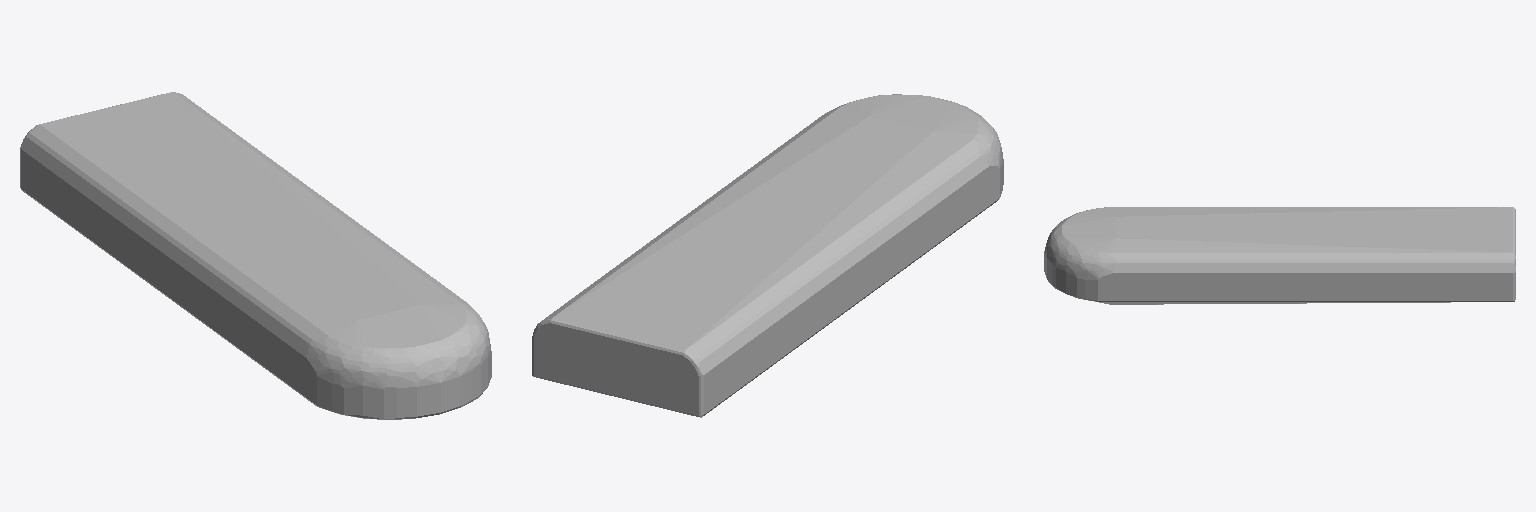
robot.urdf — root:
<?xml version="1.0"?>
<robot name="root">
  <link name="base_link">
    <visual>
      <origin xyz="0 0 0" rpy="0 0 0" />
      <geometry>
        <mesh filename="../meshes/unidex_core_remote-226078581cd4efd755c5278938766a05_015.obj" scale="1.0000E+00 1.0000E+00 1.0000E+00" />
      </geometry>
      <material name="">
        <color rgba="7.50E-01 7.50E-01 7.50E-01 1" />
      </material>
    </visual>
    <collision>
      <origin xyz="0 0 0" rpy="0 0 0" />
      <geometry>
        <mesh filename="../meshes/unidex_core_remote-226078581cd4efd755c5278938766a05_015.obj" scale="1.0000E+00 1.0000E+00 1.0000E+00" />
      </geometry>
    </collision>
  </link>
</robot>

--- Facts derived from the render (not from the file) ---
3 views of the same robot in one strip: view 1: azimuth 30°, elevation 25°; view 2: azimuth 150°, elevation 25°; view 3: azimuth 270°, elevation 25° (orthographic).
Robot: root — 1 links, 0 joints (none); root link base_link; default pose: every joint at zero.
Links seen in each view (by area): view 1: base_link; view 2: base_link; view 3: base_link.
Link boxes in pixels (x1,y1,x2,y2): base_link: (20, 92, 491, 419); base_link: (532, 94, 1003, 417); base_link: (1044, 207, 1515, 304).
Bounding box of the posed robot: 0.0825 × 0.2813 × 0.0367 m (x, y, z).
1 mesh visuals loaded from 1 distinct referenced files (1 OBJ).
